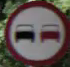No overtake: (4, 4, 62, 57)
